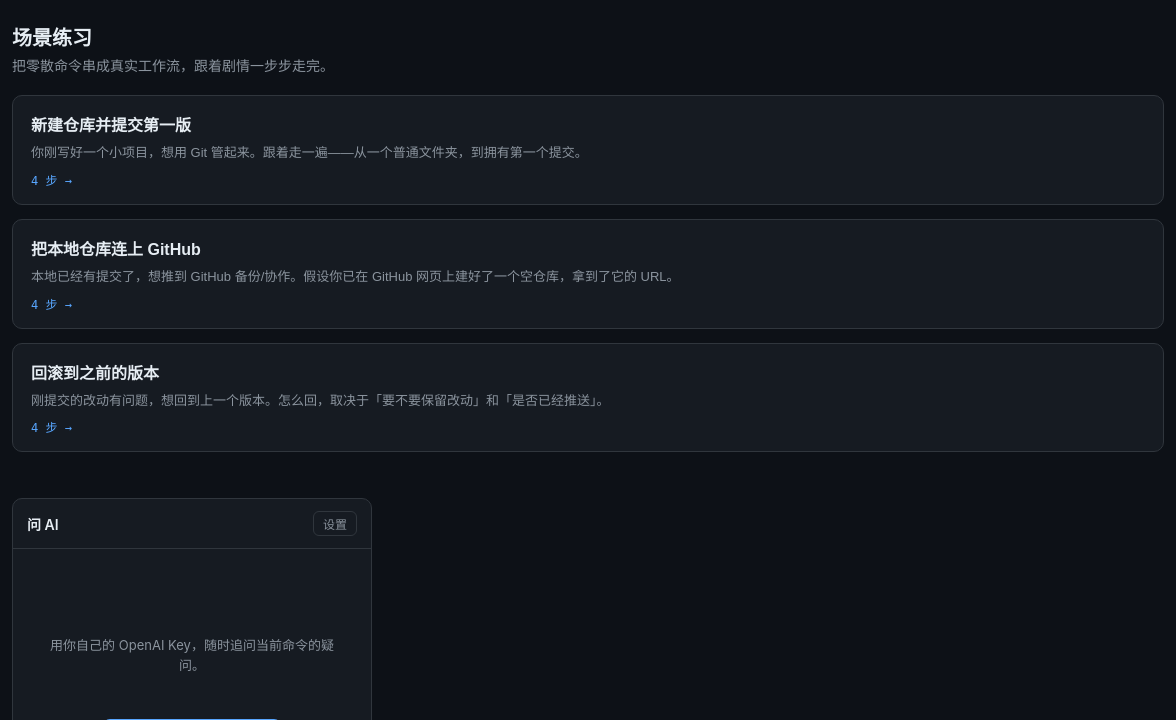
Test: ScenarioMode › shows the correct answer when the user is wrong, and allows retry
This screenshot has width=1176, height=720.
Click the text "新建仓库并提交第一版" at (111, 124), box [31, 112, 191, 136]
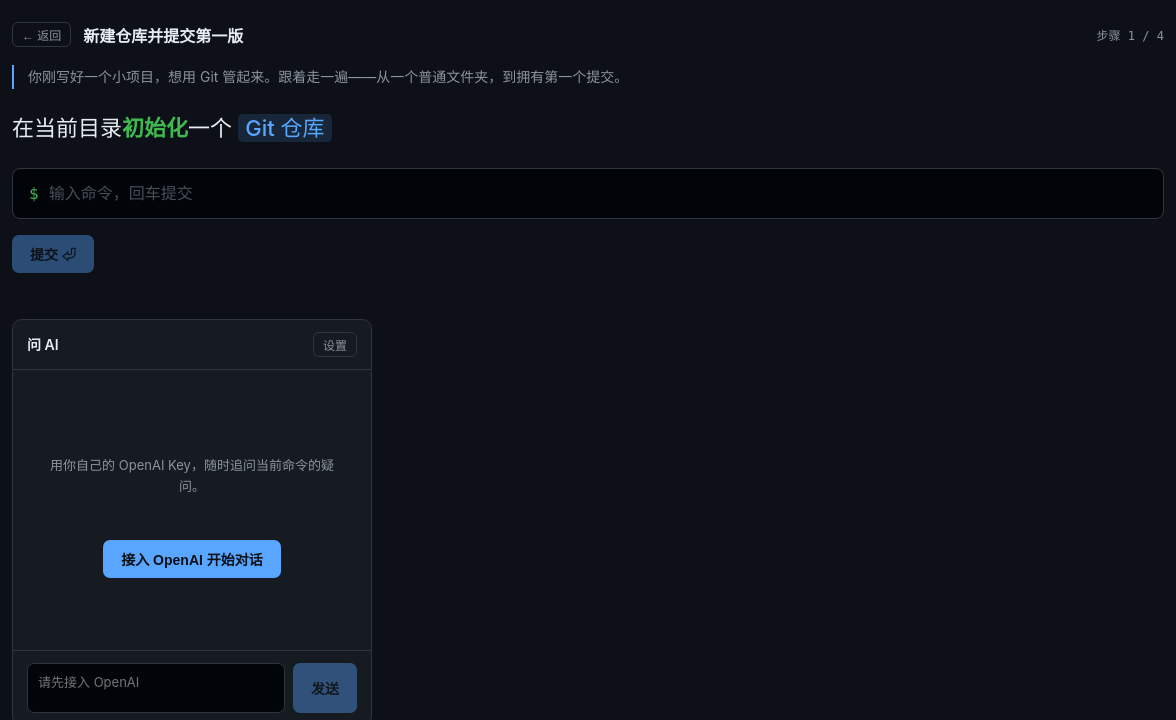
Type "git wrong" into the field with placeholder "输入命令，回车提交" at (597, 194), box [47, 183, 1147, 204]
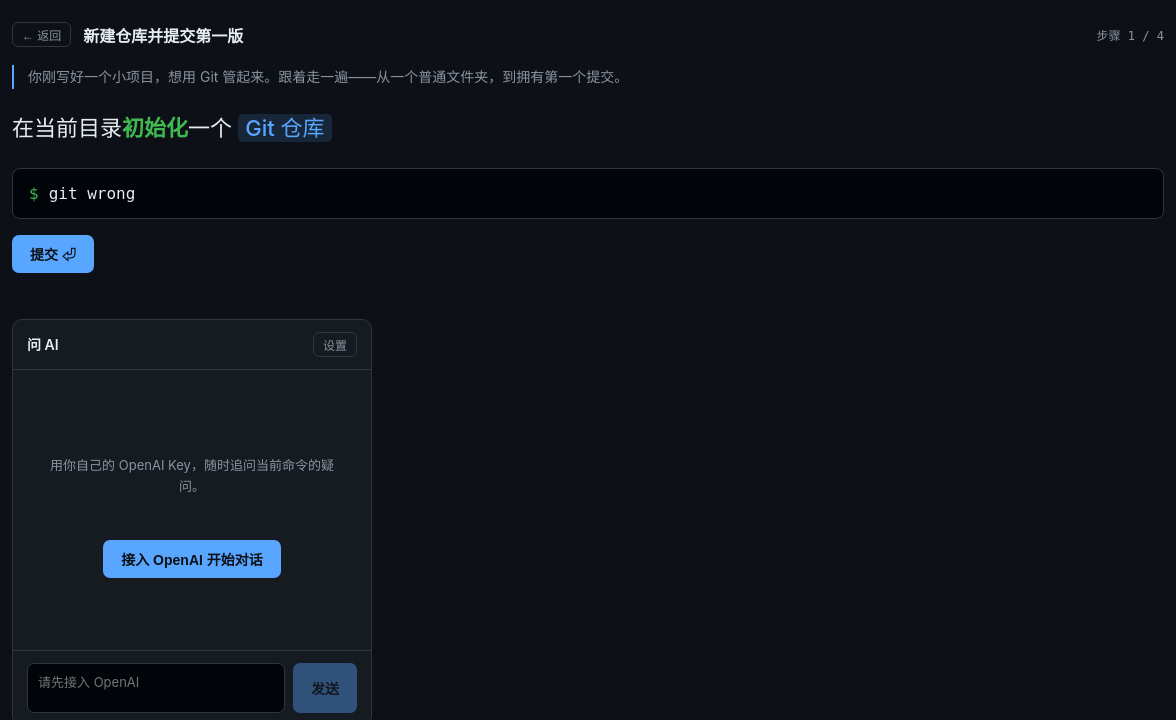
Click the button "提交 ⏎" at (53, 254), box [12, 235, 94, 273]
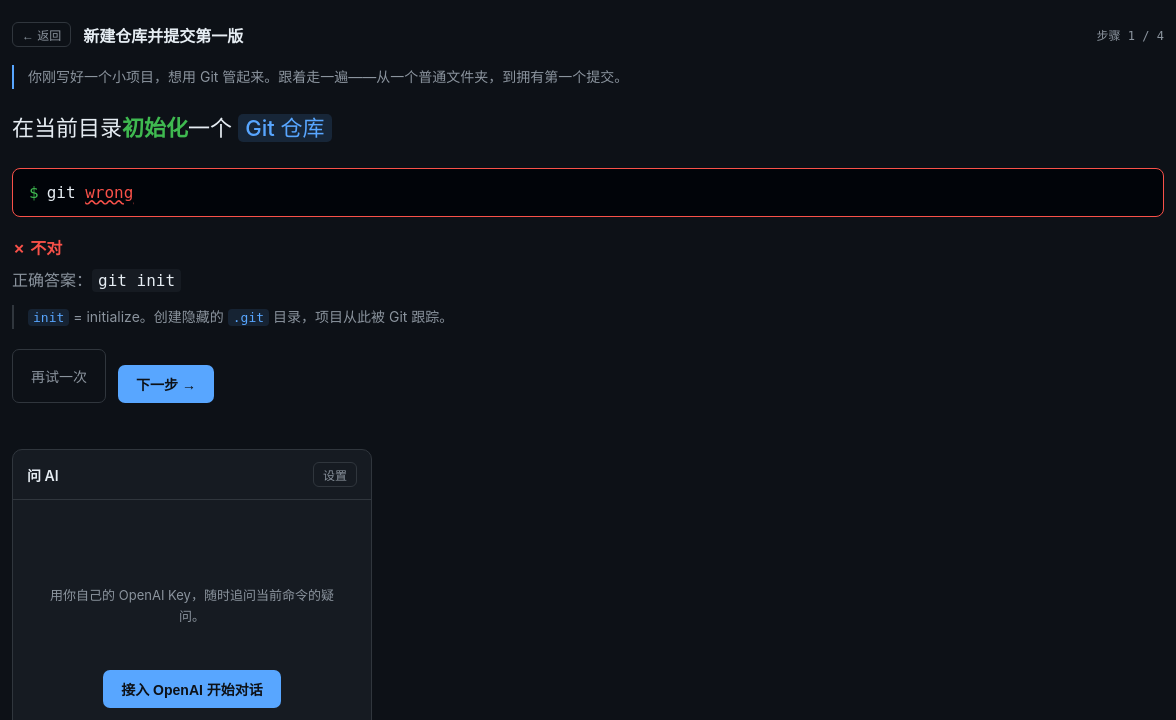
Expected: the text "✗ 不对" is shown, [12, 238, 62, 258]
Expected: the text "git init" is shown, [92, 269, 181, 292]
Click the button "再试一次" at (59, 376), box [12, 349, 106, 403]
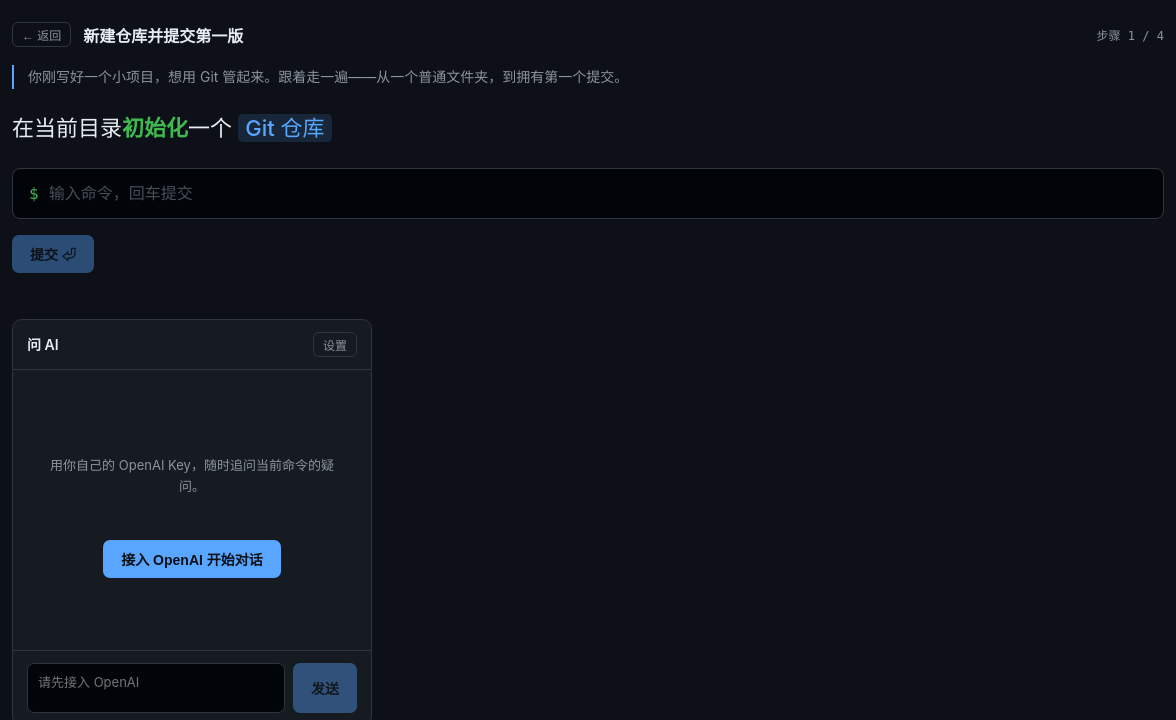
Expected: the field with placeholder "输入命令，回车提交" is shown, [47, 183, 1147, 204]
